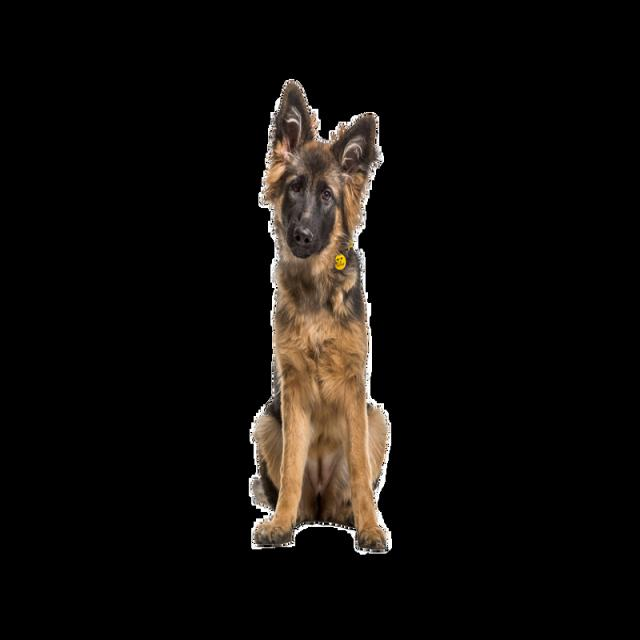GERMAN_SHEPHERD: (234, 83, 411, 558)
